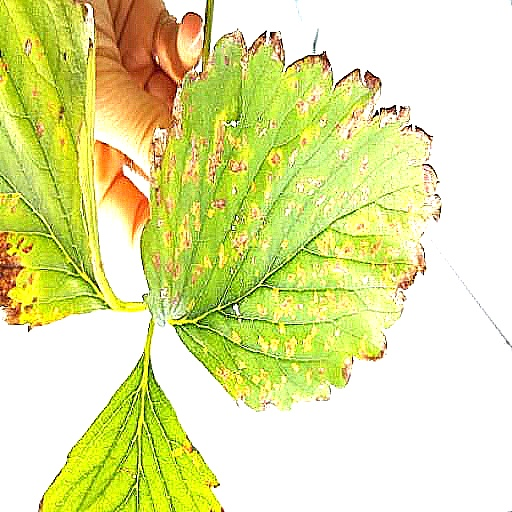Angular Leafspot: (140, 98, 444, 487), (0, 179, 122, 511), (37, 0, 224, 171)
